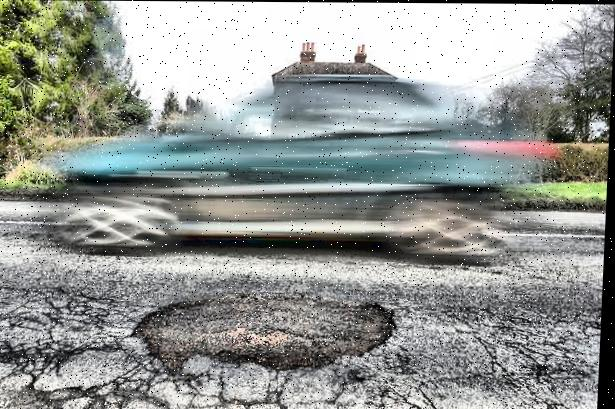pothole: (129, 291, 408, 377)
